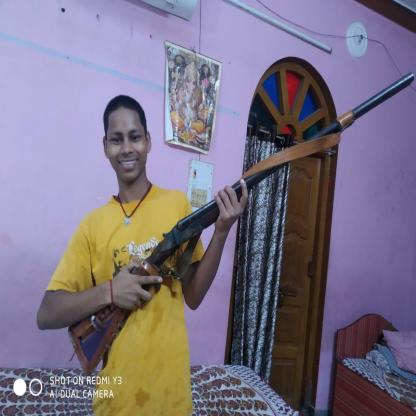rifle: (67, 69, 416, 380)
